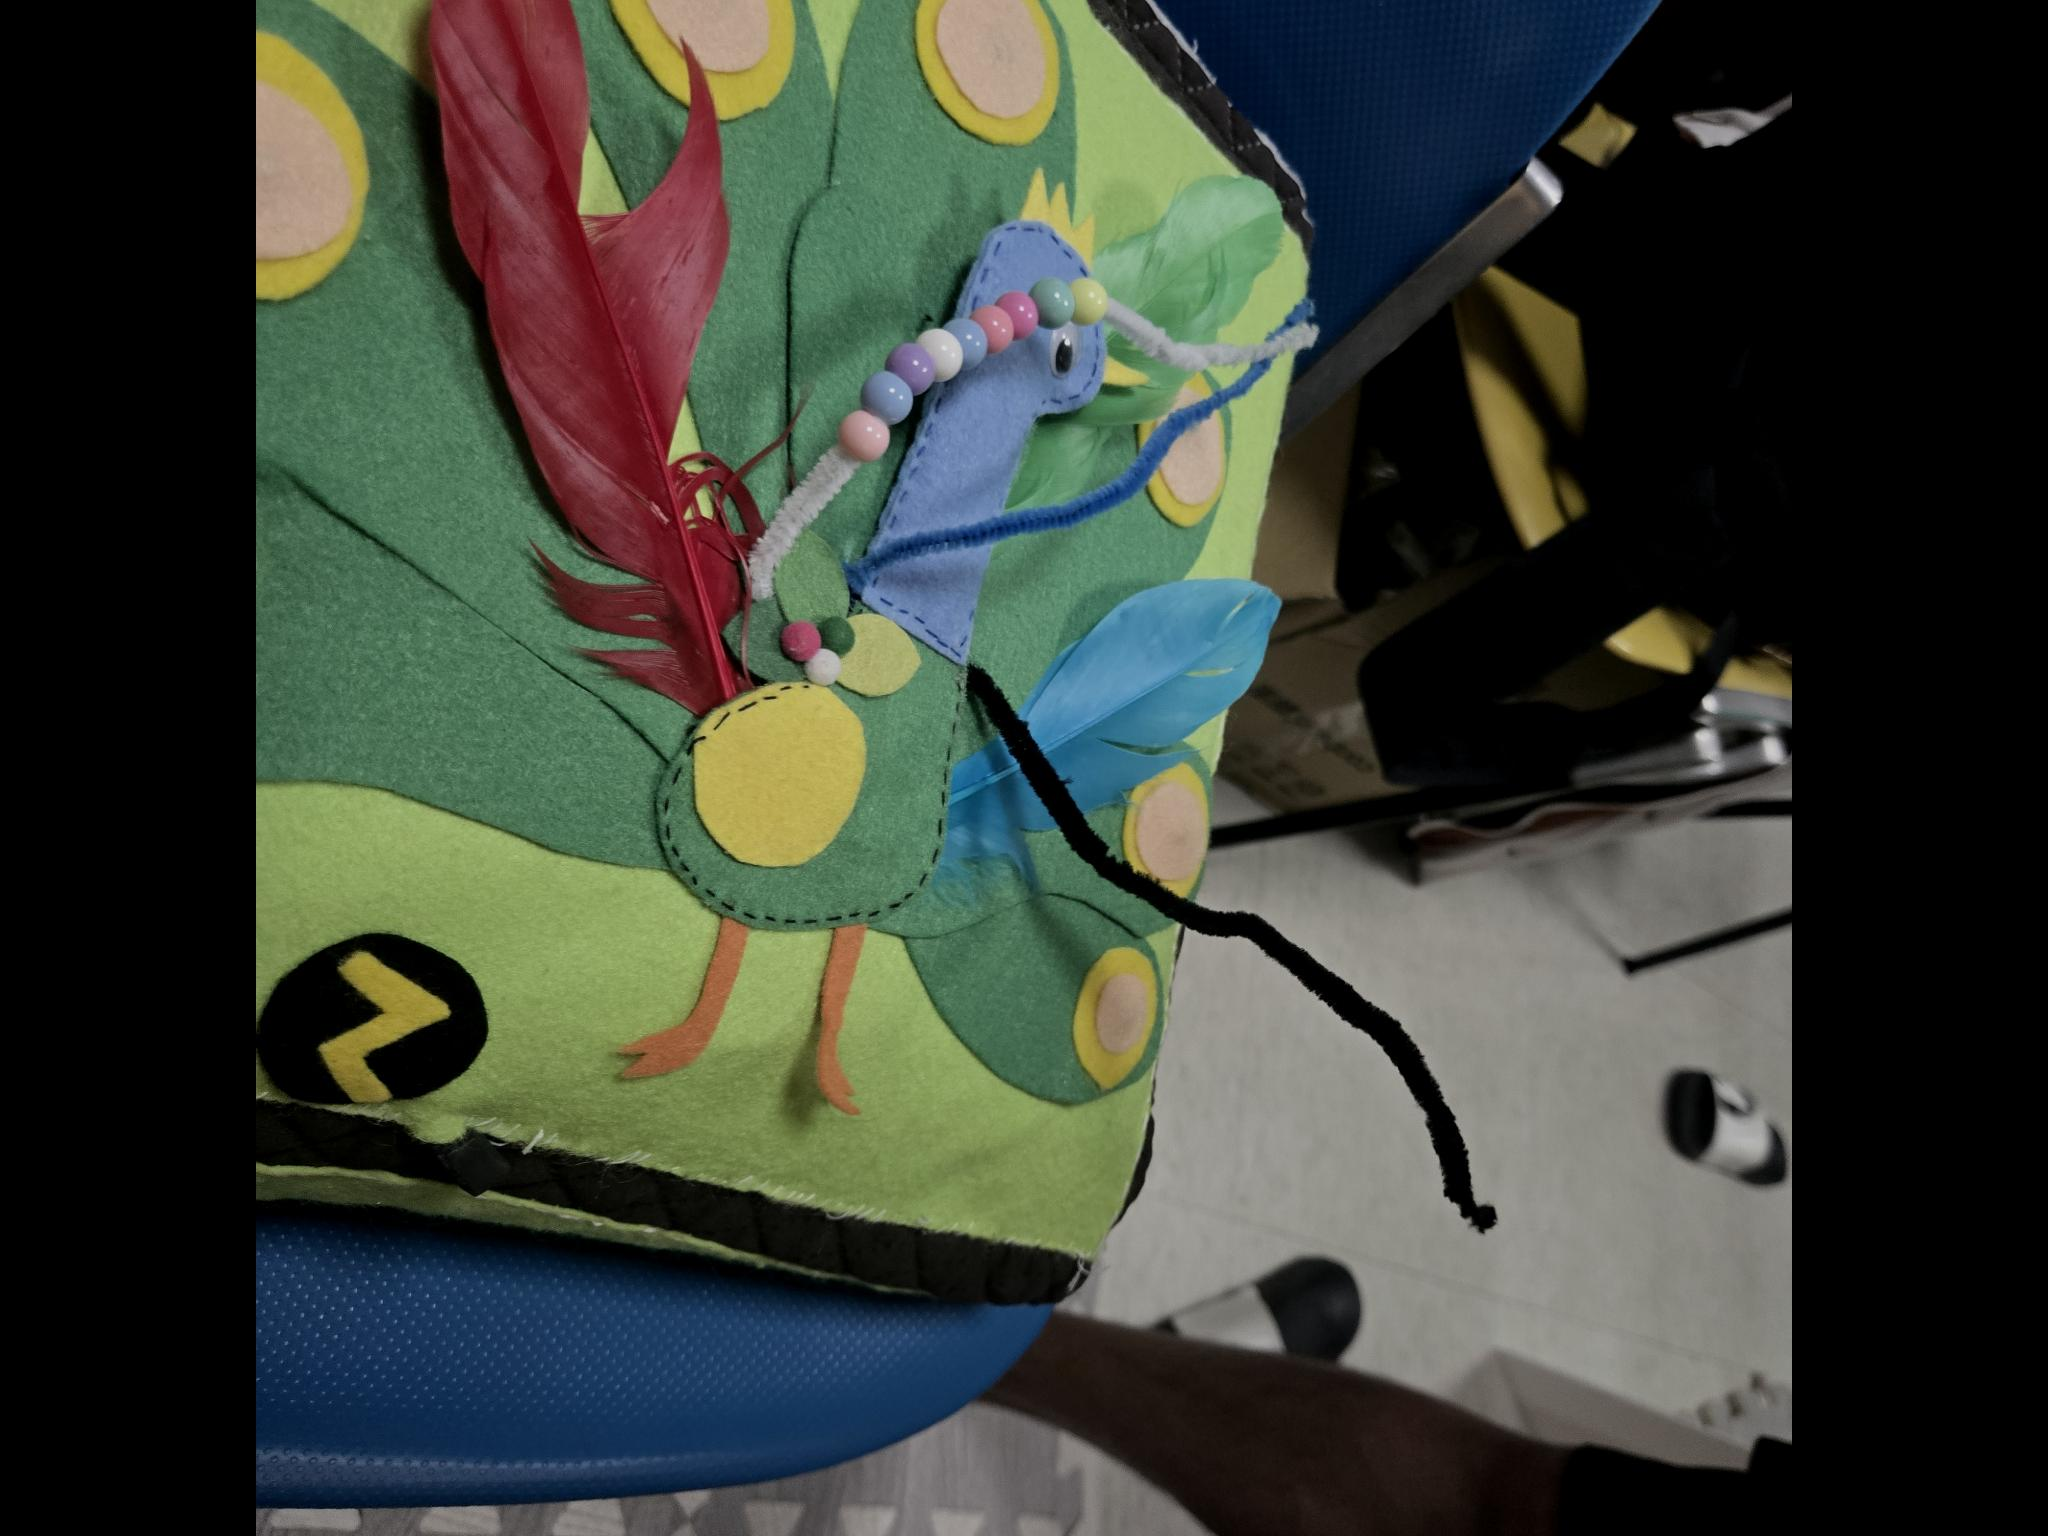bead: (916, 307, 970, 379), (878, 337, 950, 389), (972, 285, 1026, 353), (947, 293, 991, 373), (1034, 258, 1072, 332), (999, 269, 1037, 343), (830, 413, 888, 460), (1070, 266, 1114, 322), (870, 372, 920, 420)
